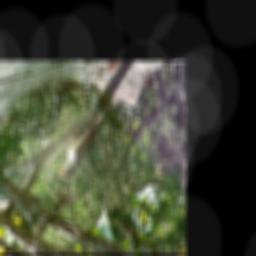Cuckoo: (56, 97, 114, 180)
